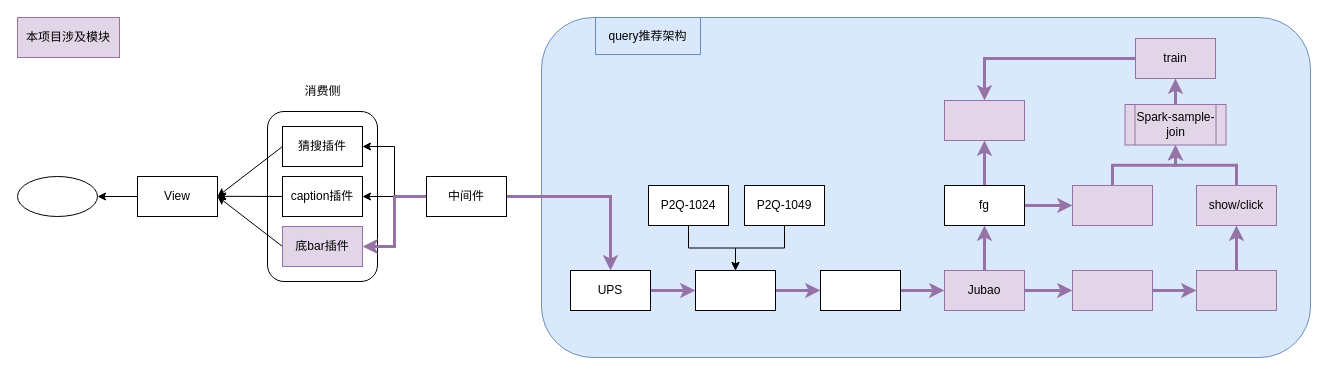
Image size: 1328x375. Some labels were removed from this diagram. Each missing label, with the centre of its shape:
ack-feature-dump: the point at 1112,205
client: the point at 57,196
End: the point at 1236,290
Filter: the point at 860,290
Freq-ctl: the point at 1112,290
multi-infer: the point at 984,120
Recall: the point at 735,290
